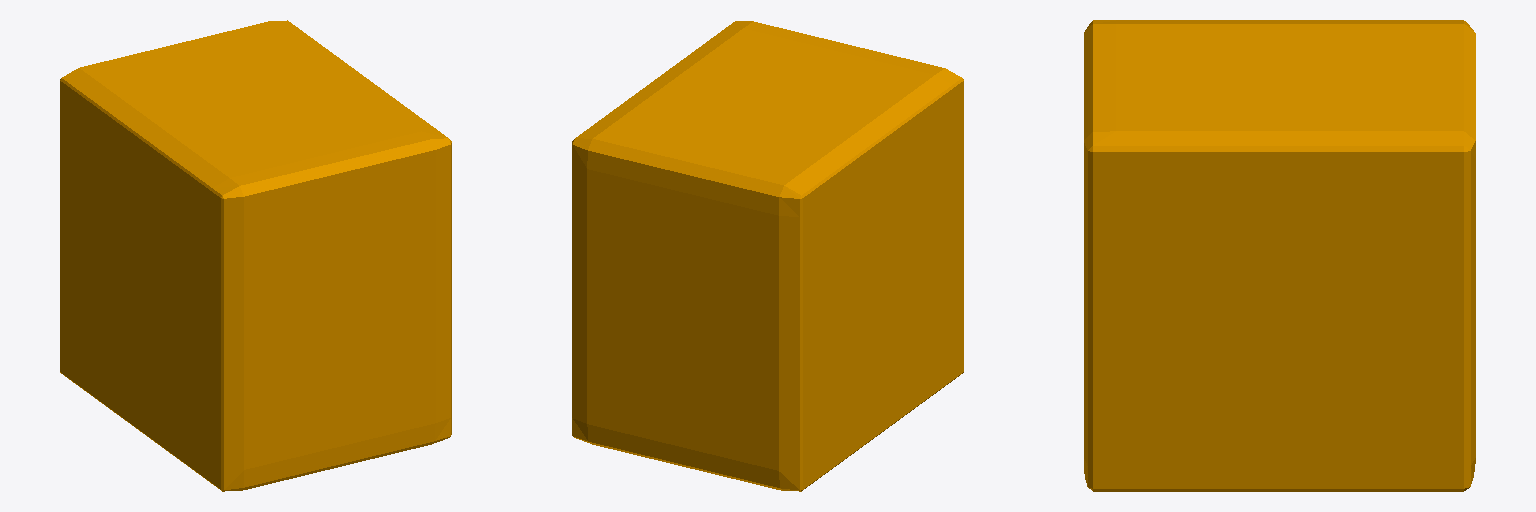
robot.urdf — cylinder_box_159:
<?xml version="1.0" encoding="utf-8"?>  <robot name="cylinder_box_159">   <link name="cylinder_box_159">     <visual>       <geometry>         <mesh filename="../meshes/box/box_159.stl" scale="1 1 1"/>       </geometry>     </visual>     <collision>       <geometry>         <mesh filename="../meshes/box/box_159.stl" scale="1 1 1"/>       </geometry>     </collision>     <inertial>        <origin         xyz="0 0 0"         rpy="0 0 0" />       <mass value="0.4676009956163796"/>       <origin rpy="0 0 0" xyz="0 0 0"/>       <inertia ixx="0.0005490497712706681" ixy="2.843993533908591e-09" ixz="2.4519635148697707e-09" iyy="0.00044180795752406433" iyz="-5.96341685485139e-08" izz="0.00044642822503477664"/>     </inertial>   </link>  </robot>

--- Render facts (derived) ---
Views: 3 orthographic renders of the robot side by side, from view 1: azimuth 30°, elevation 25°; view 2: azimuth 150°, elevation 25°; view 3: azimuth 270°, elevation 25°.
Model cylinder_box_159 with 1 links and 0 joints (none), rooted at cylinder_box_159, posed every joint at zero.
Links seen in each view (by area): view 1: cylinder_box_159; view 2: cylinder_box_159; view 3: cylinder_box_159.
Boxes of the visible links, left/top/right/bottom form: cylinder_box_159: left=60, top=20, right=451, bottom=491; cylinder_box_159: left=572, top=21, right=963, bottom=491; cylinder_box_159: left=1084, top=20, right=1475, bottom=491.
Bounding box of the posed robot: 0.0663 × 0.0847 × 0.0839 m (x, y, z).
1 mesh visuals loaded from 1 distinct referenced files (1 binary STL).